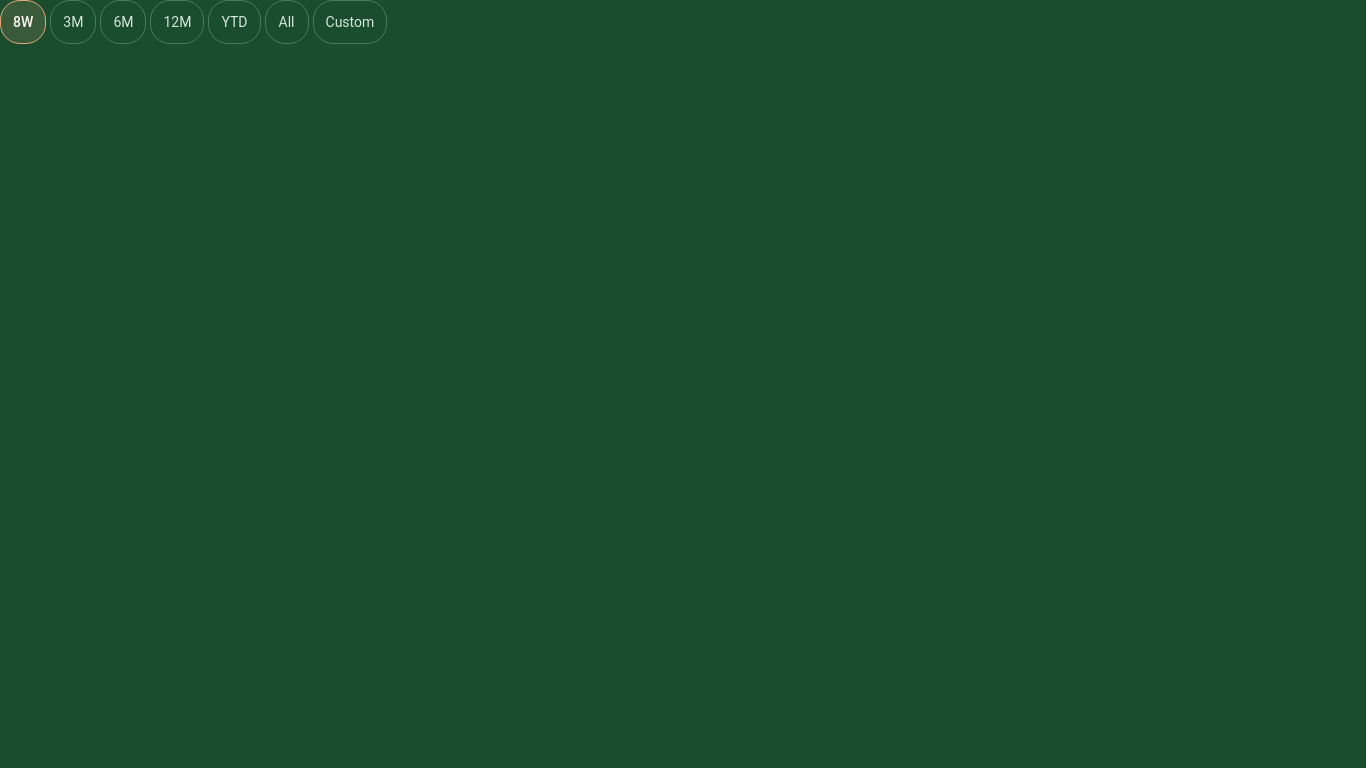
TimeWindowFilter › Custom dates › opens the sheet, and Apply writes the range to ?w=
The image size is (1366, 768).
Step 1. Click the button "Custom" → {"x": 350, "y": 22}, box [312,0,387,44]
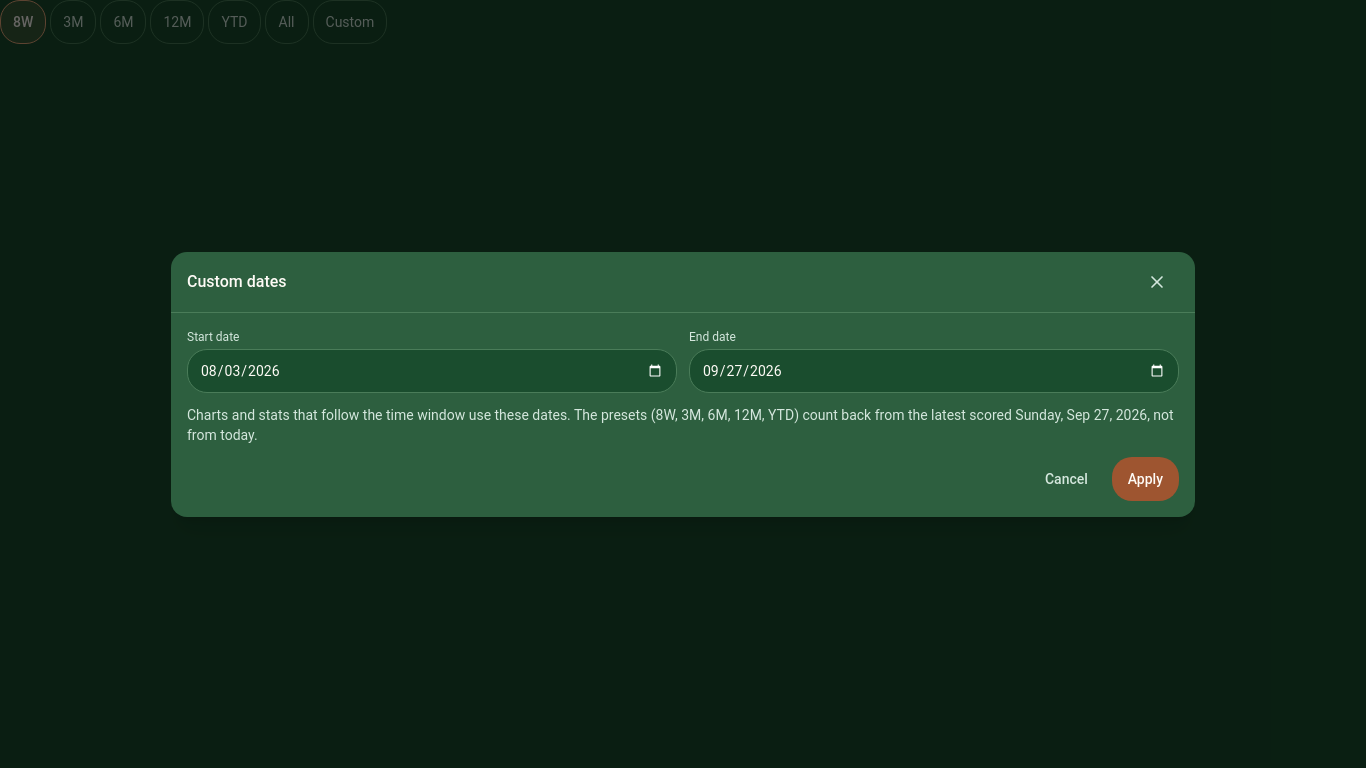
Step 2. Type "2025-03-01" into the date field labelled "Start date" → {"x": 432, "y": 370}, box [187,348,677,392]
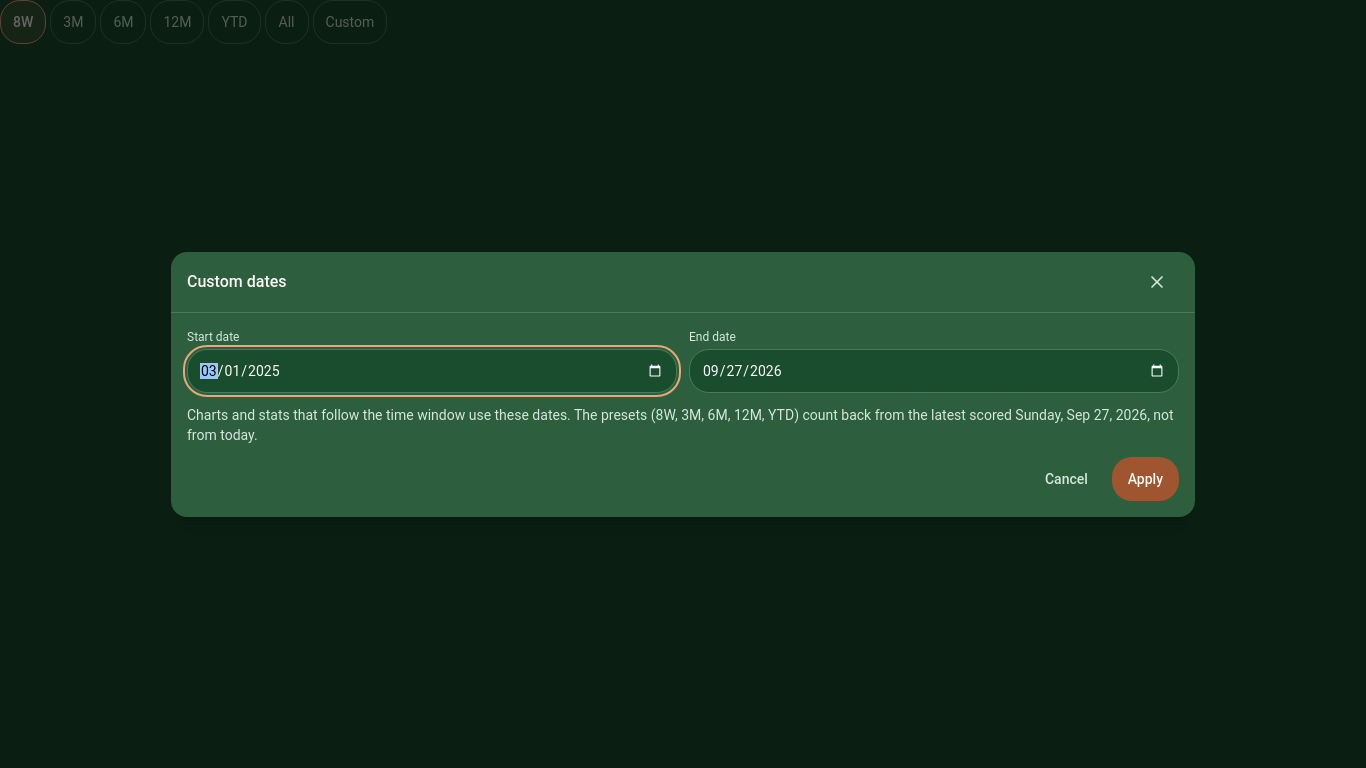
Step 3. Type "2025-09-28" into the date field labelled "End date" → {"x": 934, "y": 370}, box [689,348,1179,392]
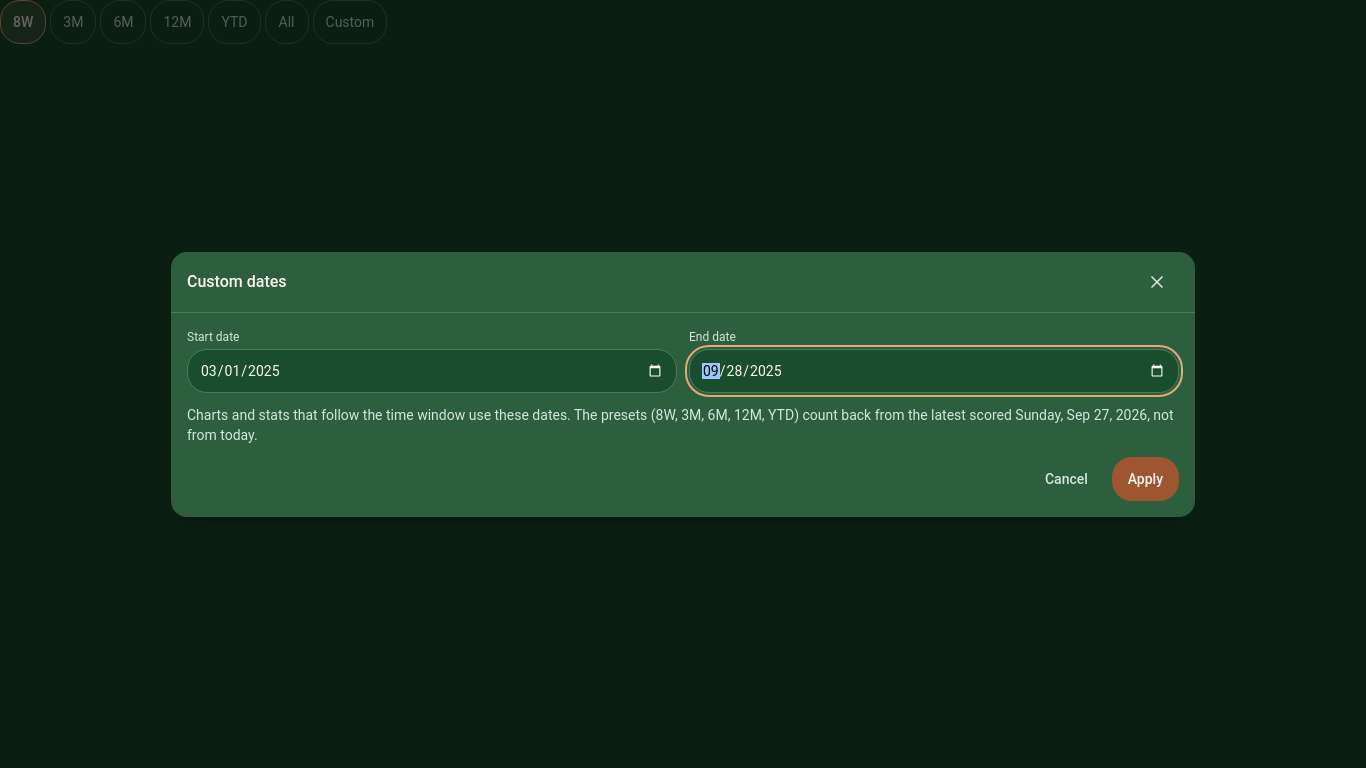
Step 4. Click the button "Apply" → {"x": 1145, "y": 478}, box [1112,456,1179,500]
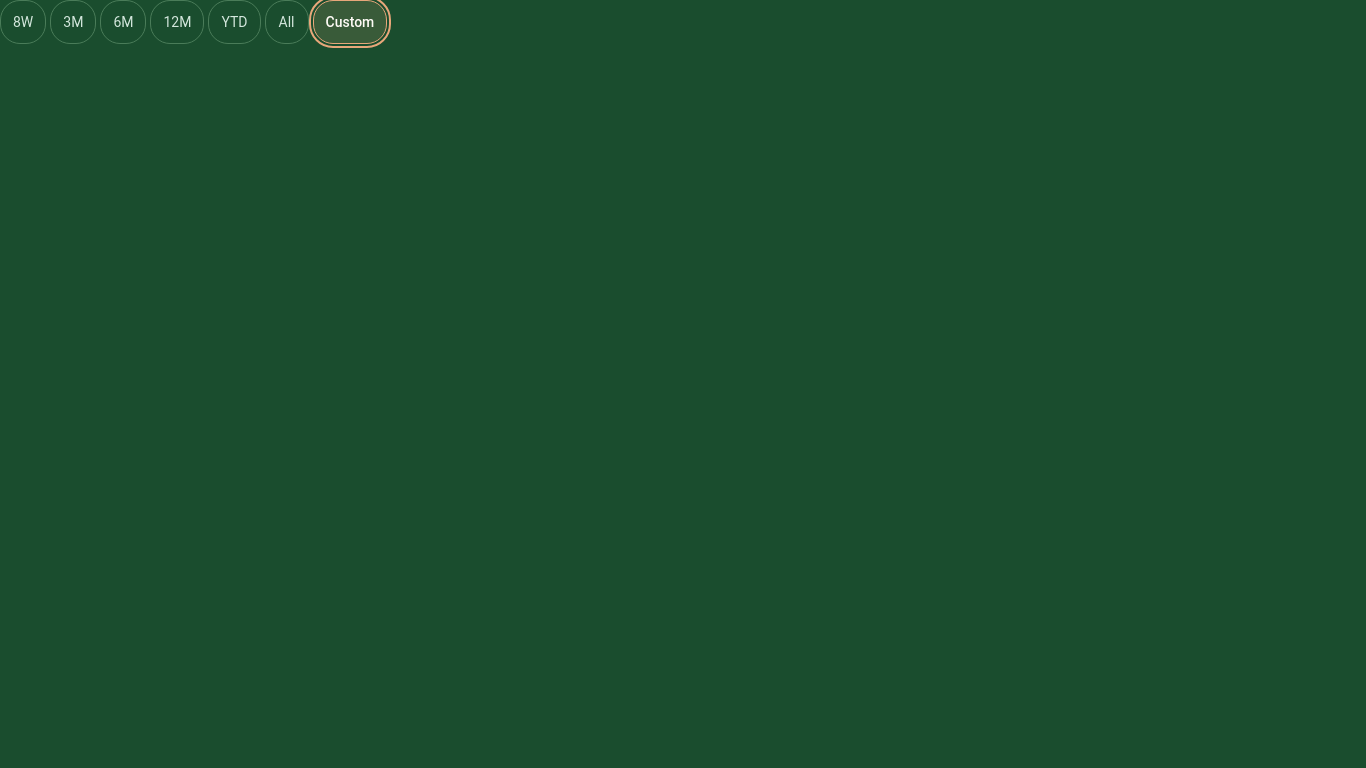
Now the dialog is gone
